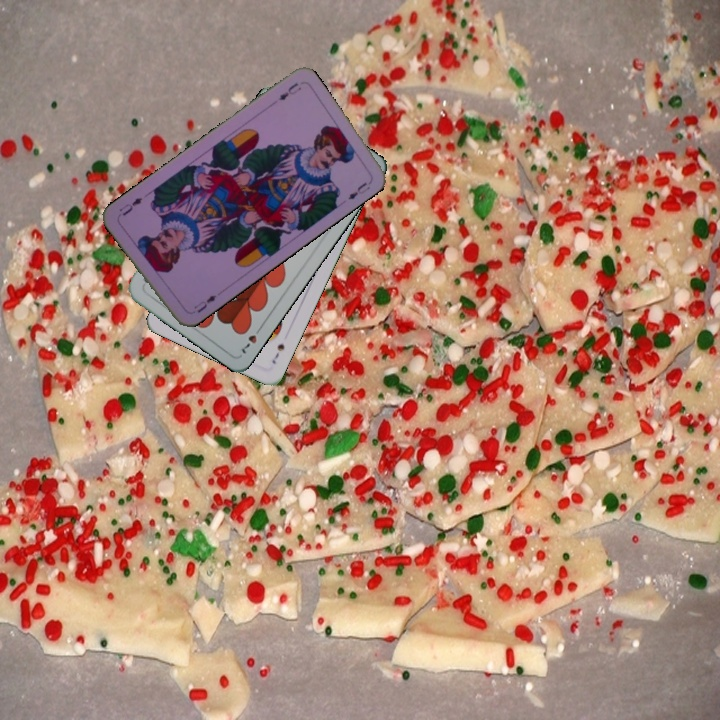EU: (274, 78, 304, 103), (190, 291, 219, 315)
H7: (237, 321, 265, 357)
S7: (268, 340, 287, 366)
